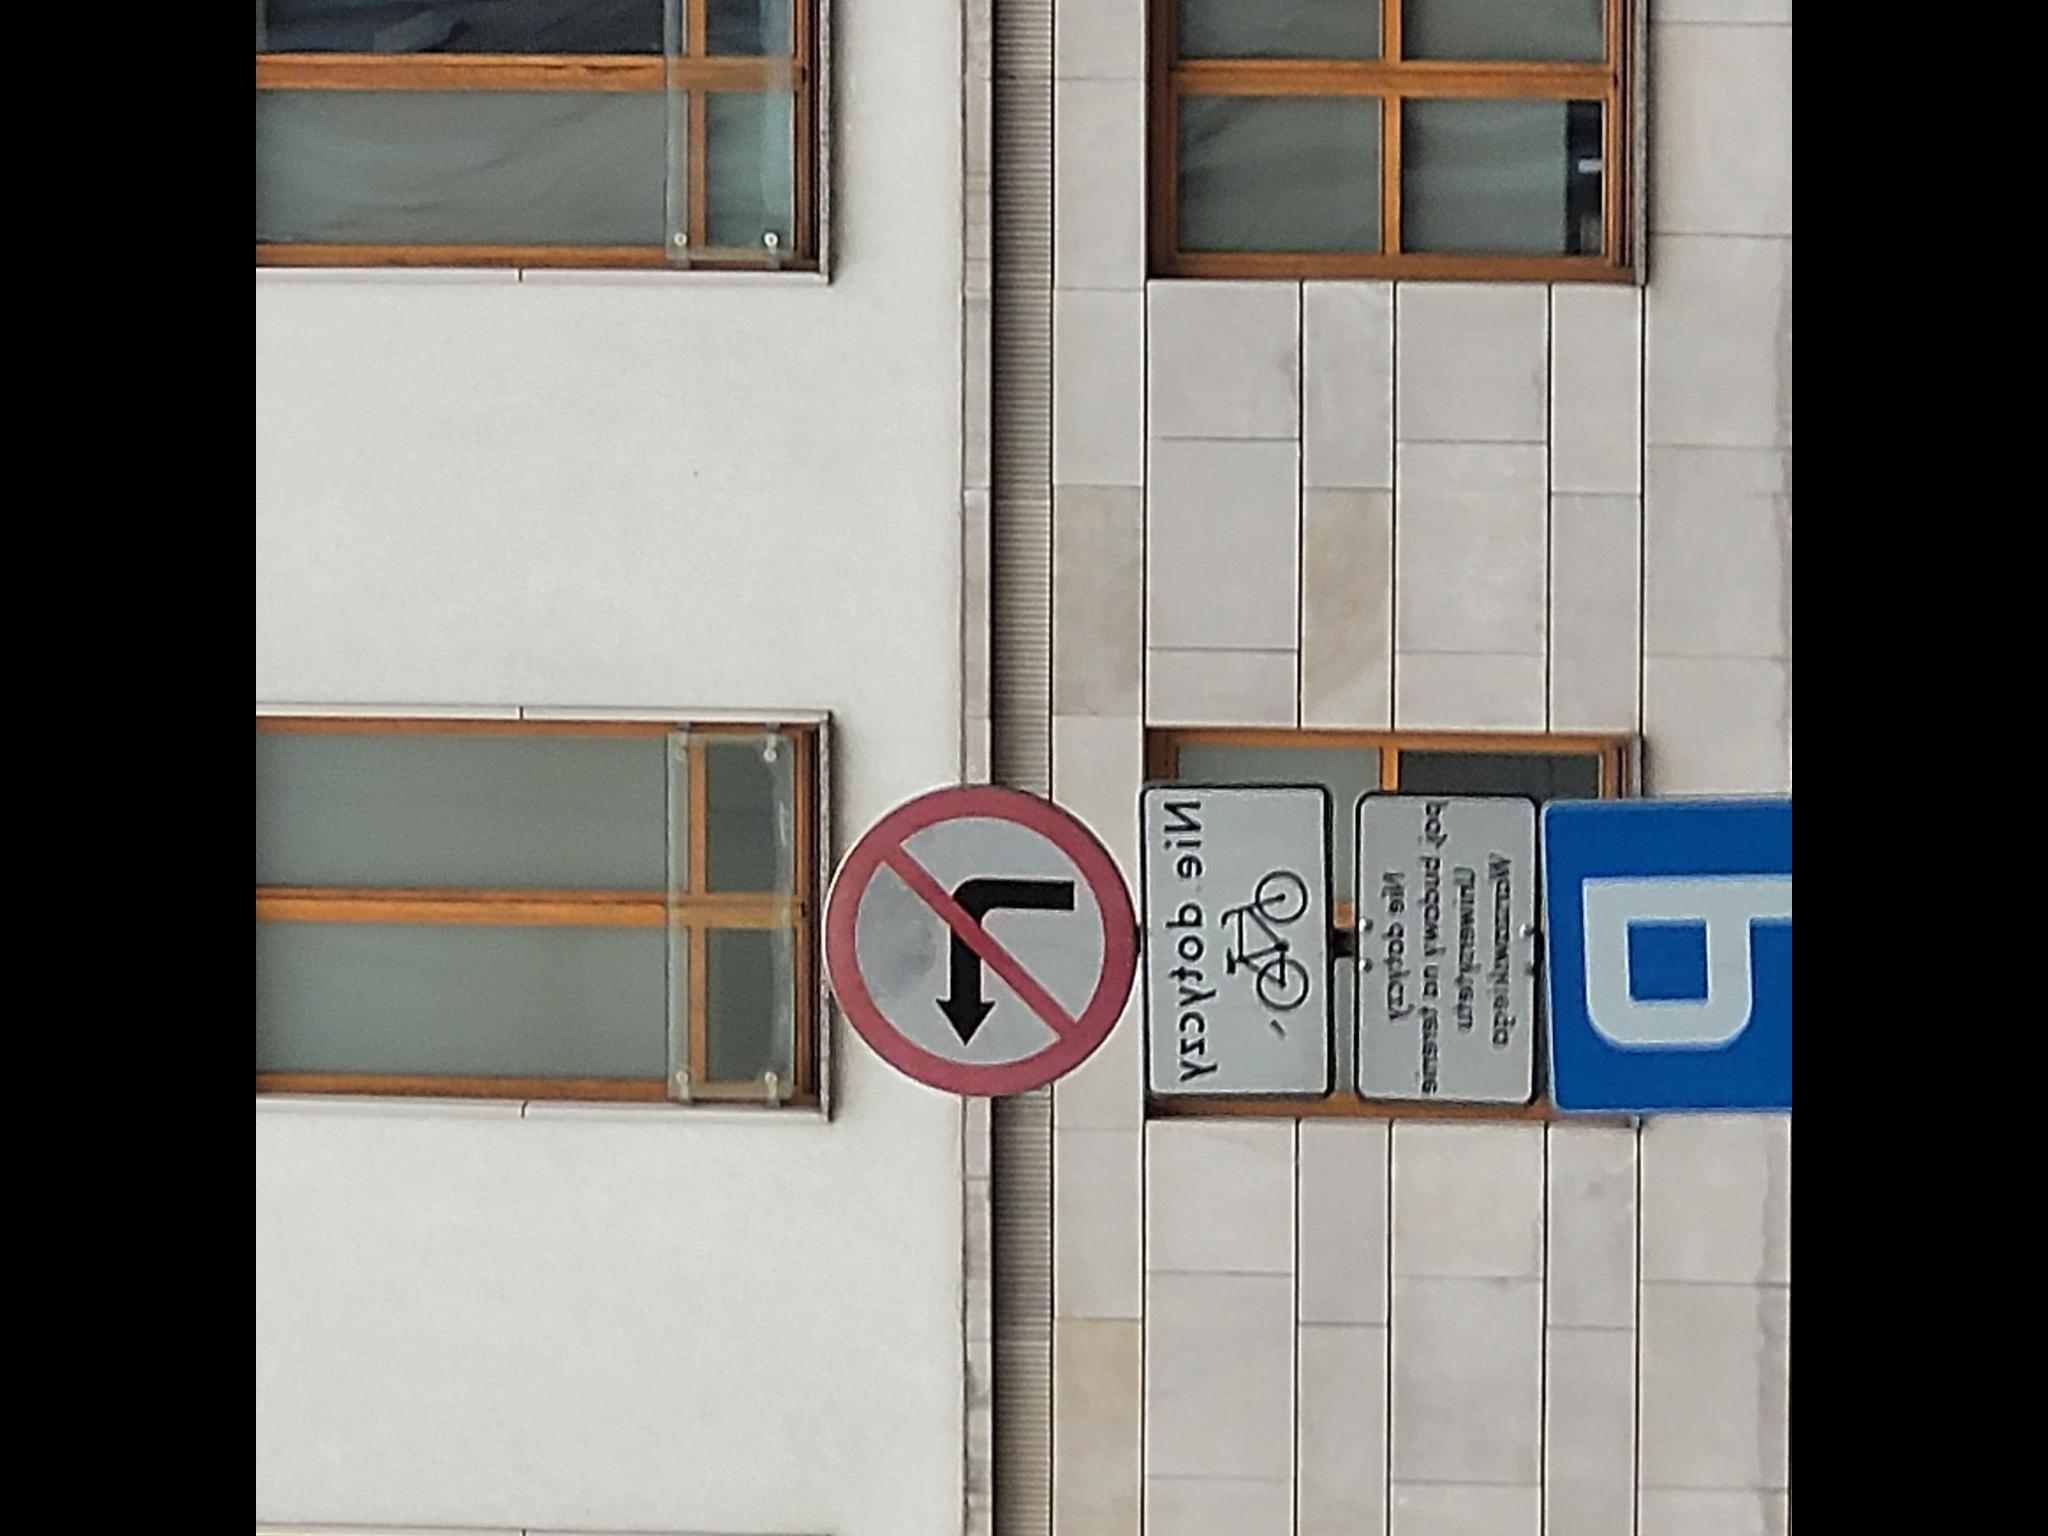information: (1543, 795, 1792, 1115)
other: (1145, 786, 1335, 1096), (1358, 792, 1535, 1105)
prohibitory: (818, 781, 1138, 1097)
